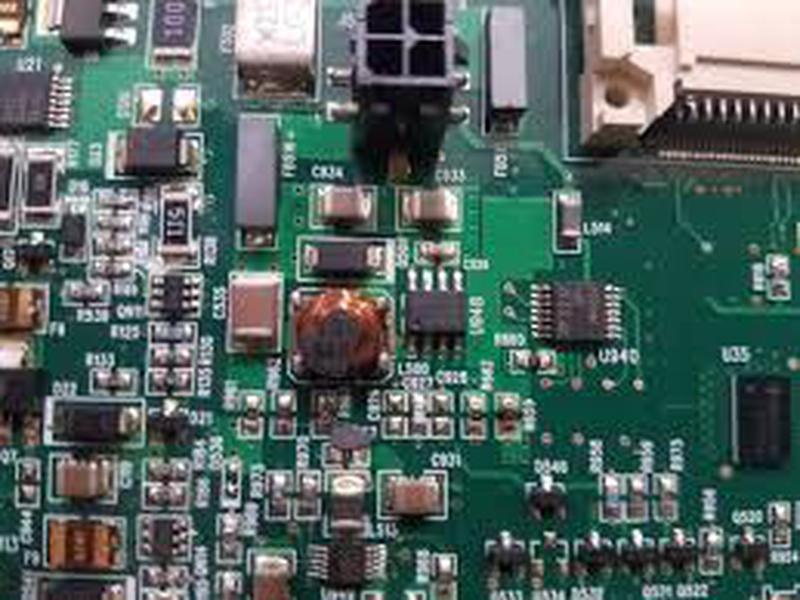SMD capacitor: (232, 272, 281, 347), (309, 182, 376, 227), (403, 190, 460, 226)
